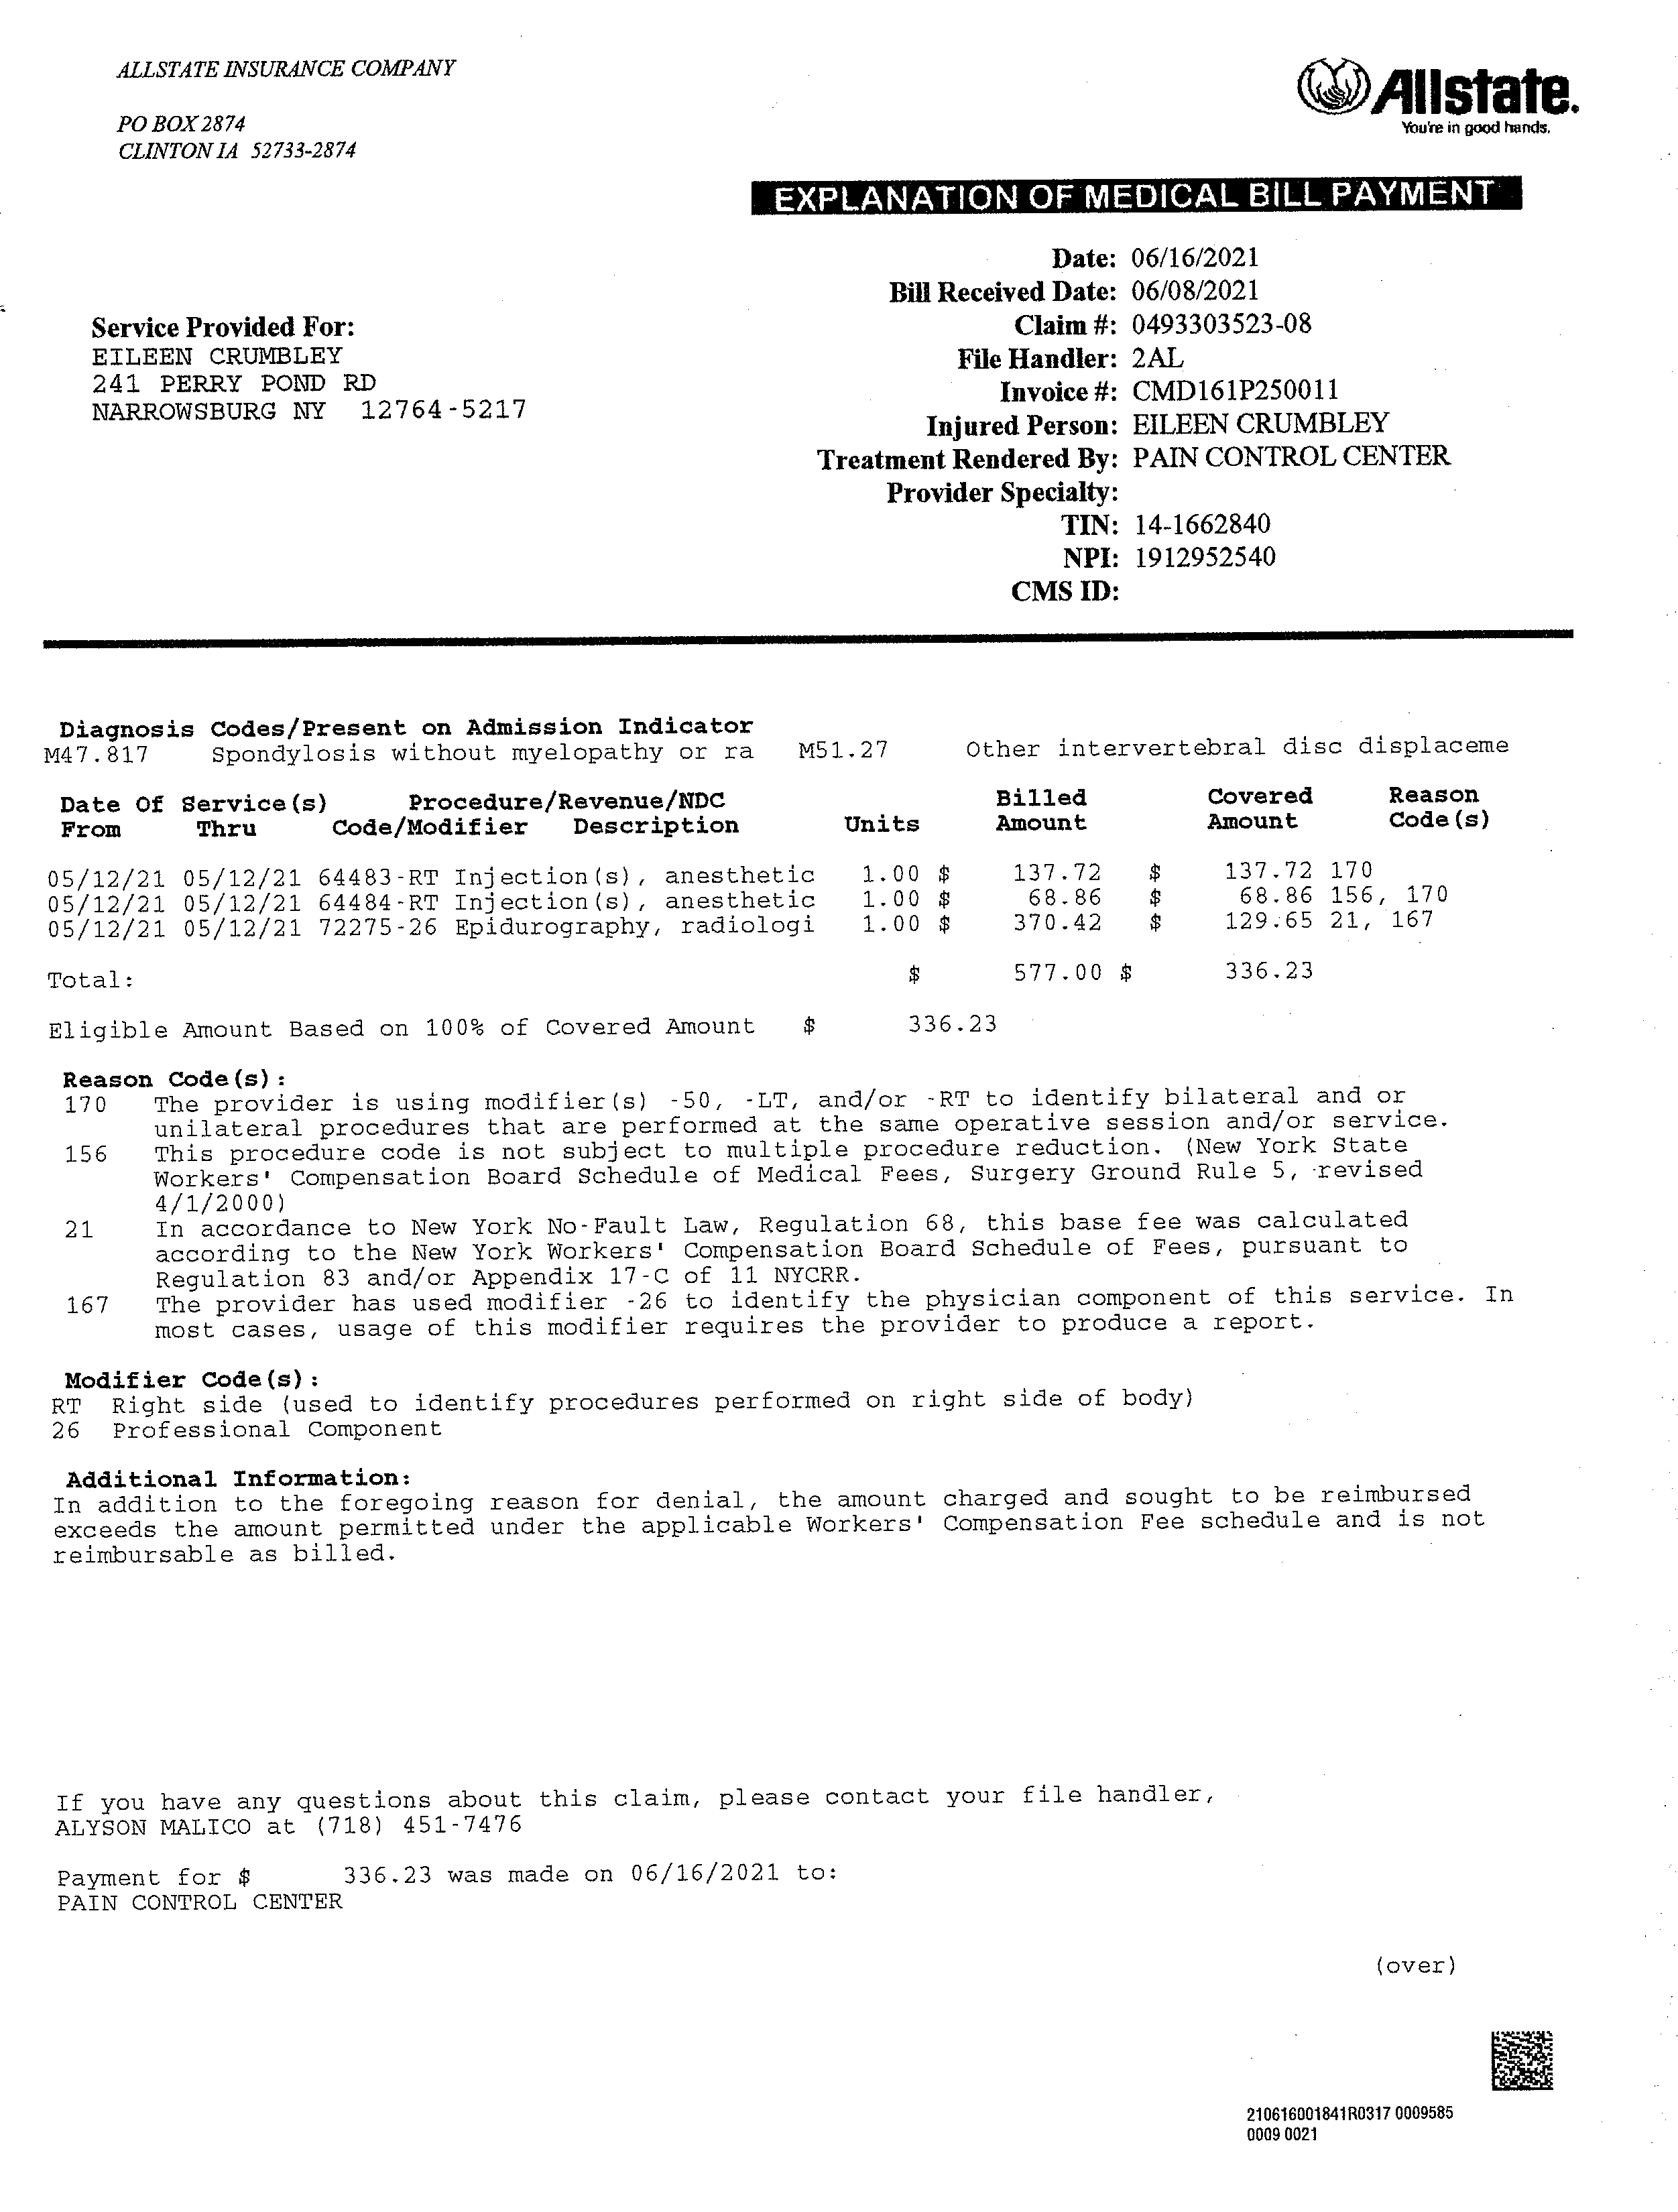data: (768, 241, 1482, 615), (81, 296, 543, 442)
table: (28, 777, 1530, 1001)
